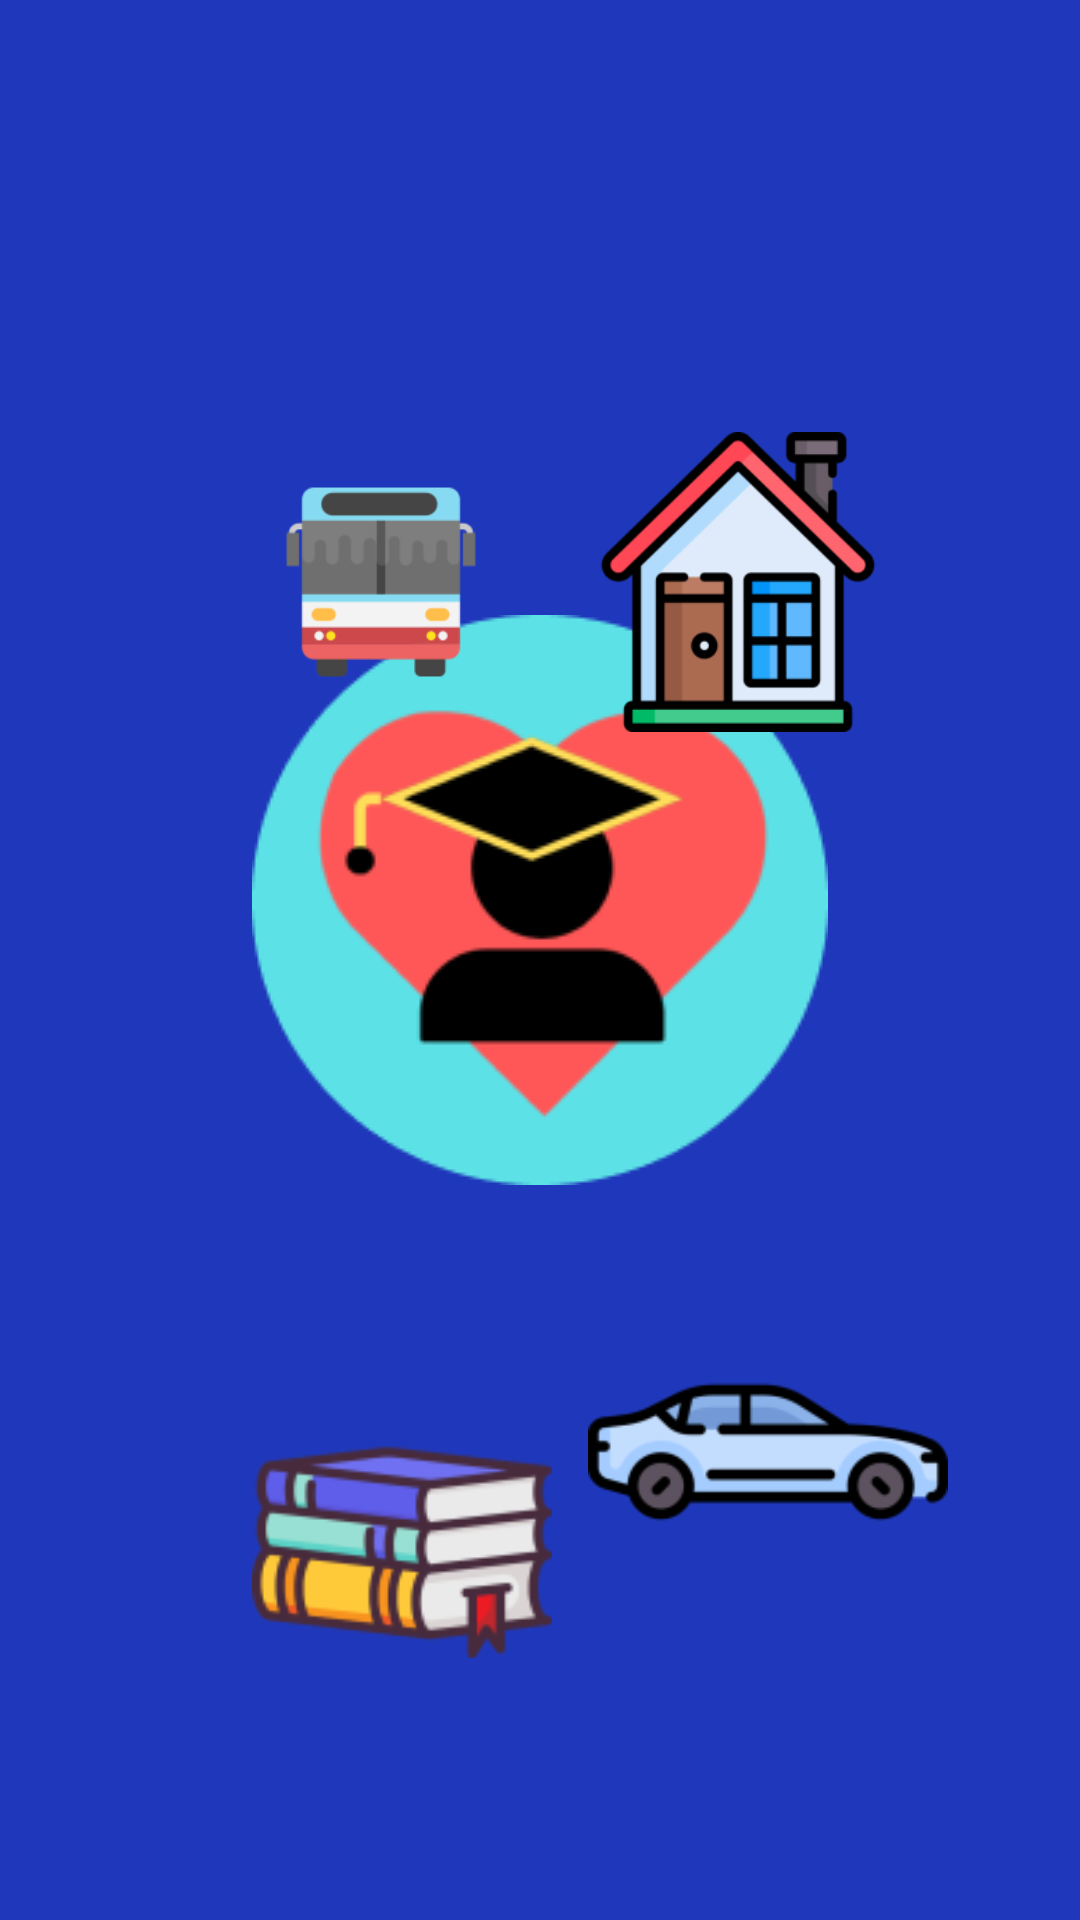

Icon click points for this 1080px x 1920px phone screenshot, format (x=x, y=y):
book: (x=402, y=1552)
bus: (x=408, y=609)
car: (x=768, y=1452)
home: (x=731, y=582)
